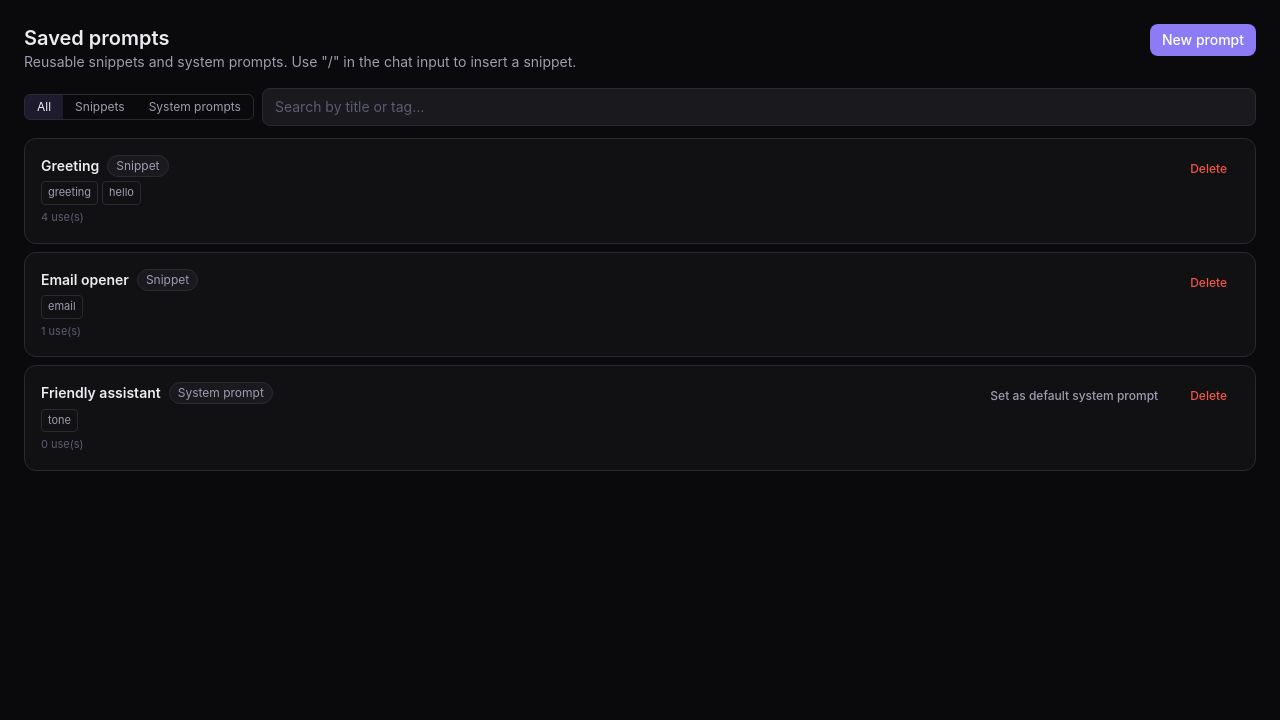
Test: PromptLibraryPanel edit modal › clicking a row opens the edit modal with prefilled values
Click the list item with test id "prompt-row-snip-a". click: coordinates (640, 191)
box: top-left (24, 138), bottom-right (1256, 244)
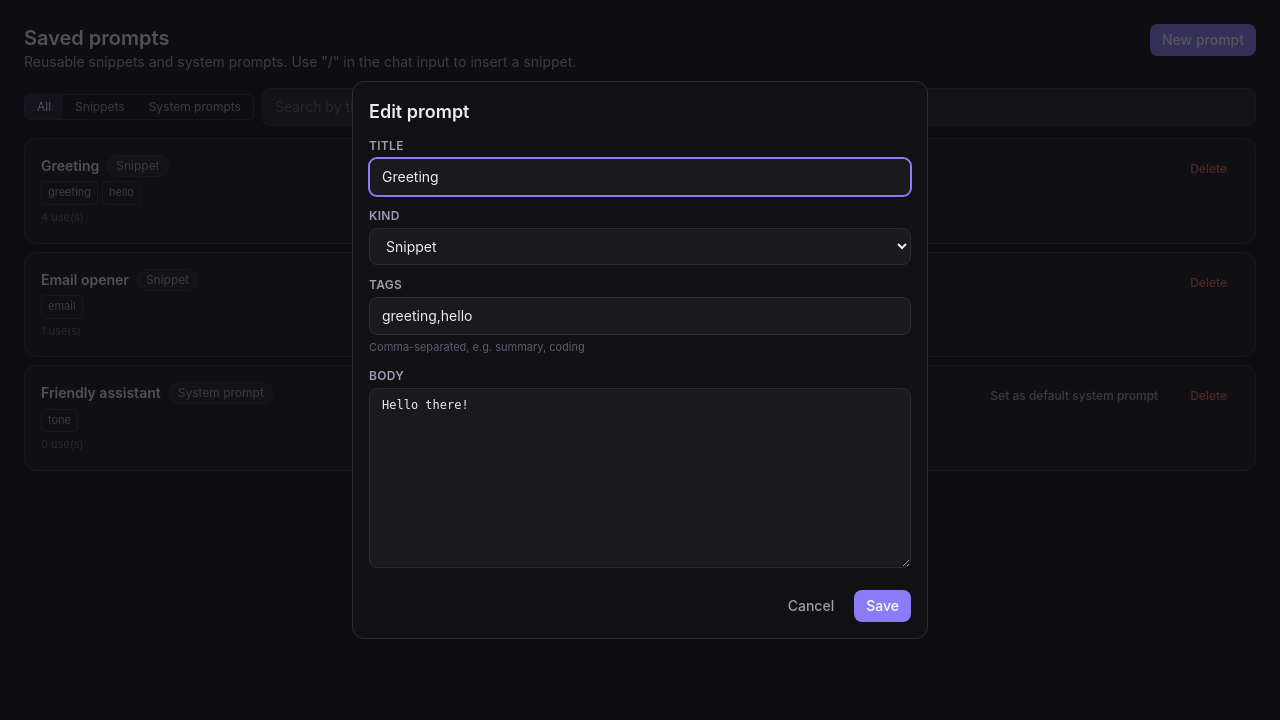
Expected: the dialog with test id "prompt-edit-modal" is shown
Expected: the field with test id "prompt-edit-title" holds "Greeting", top-left (369, 158), bottom-right (911, 196)
Expected: the text box with test id "prompt-edit-body" holds "Hello there!", top-left (369, 388), bottom-right (911, 568)
